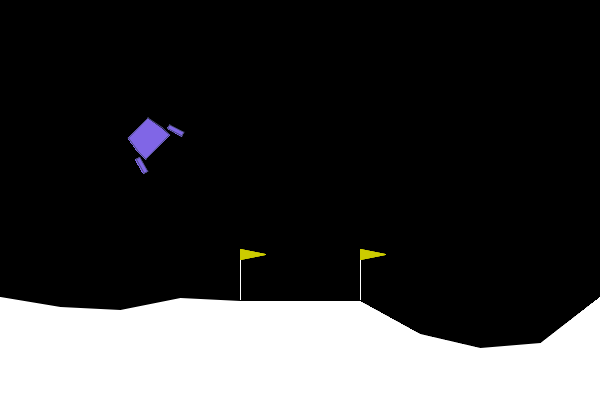lander: (115, 105, 186, 176)
